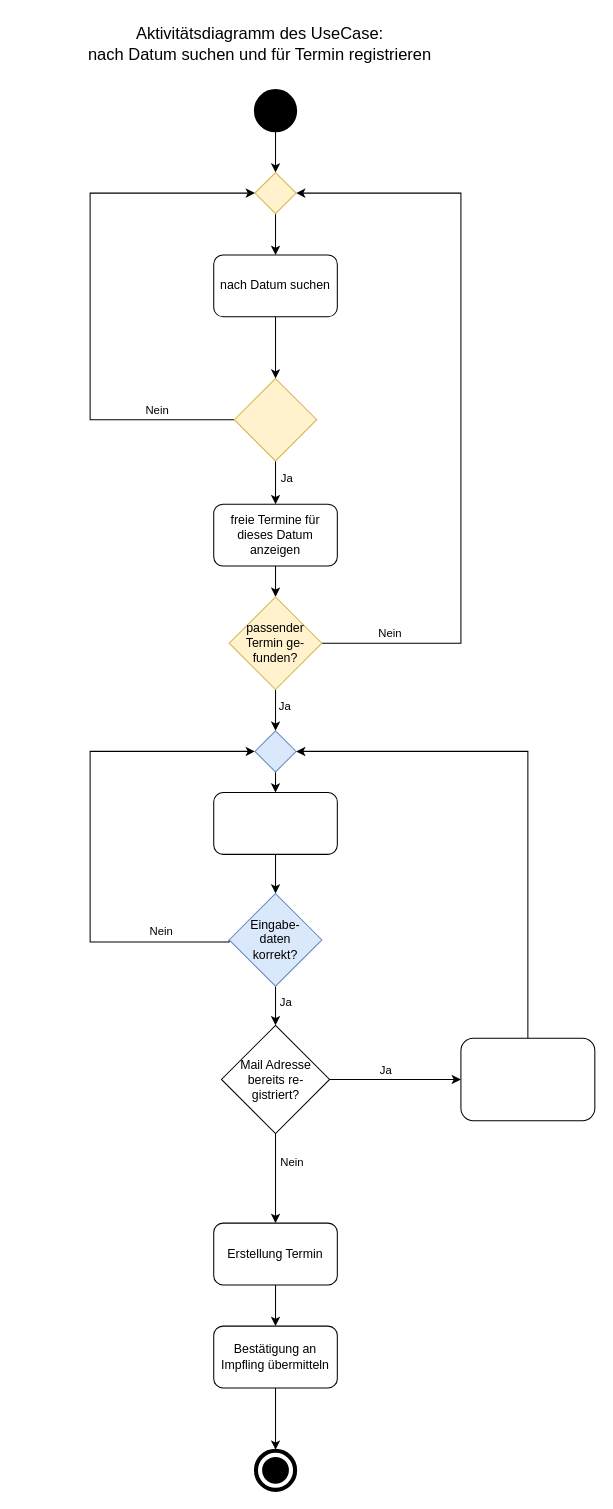
The diagram is 613 pixels wide and 1509 high, and some of its shapes have lost their labels. Each missing label, with the box of its shape:
Benachrichtigung über bereits verwendete E-Mail Adresse: (460, 1037, 595, 1121)
Datum ge-funden?: (233, 377, 317, 461)
für Termin registrieren: (213, 792, 337, 854)
